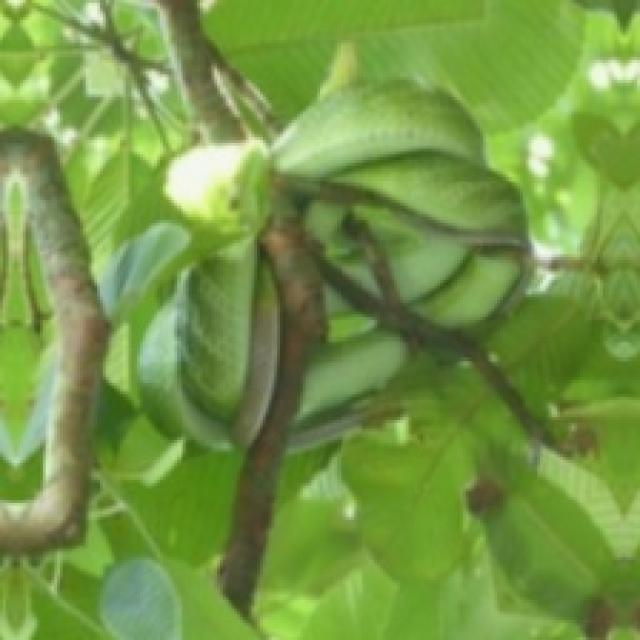red-tailed green ratsnake: (272, 82, 526, 329), (138, 235, 274, 447), (300, 306, 408, 417)
